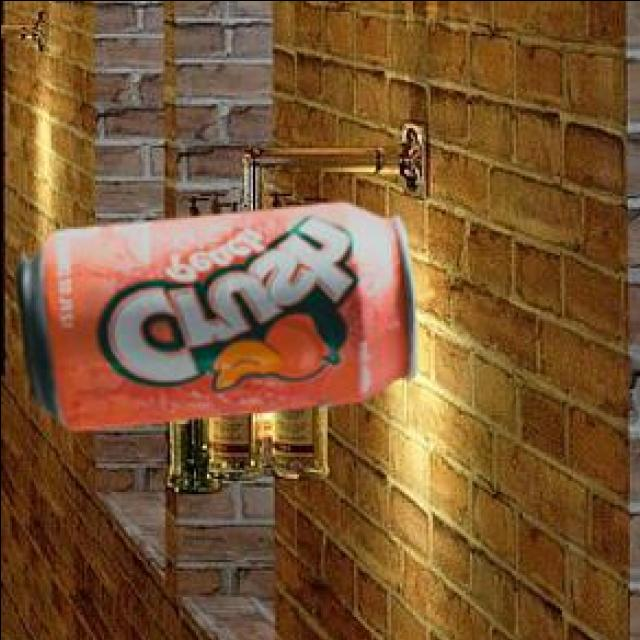logam: (12, 205, 413, 433)
